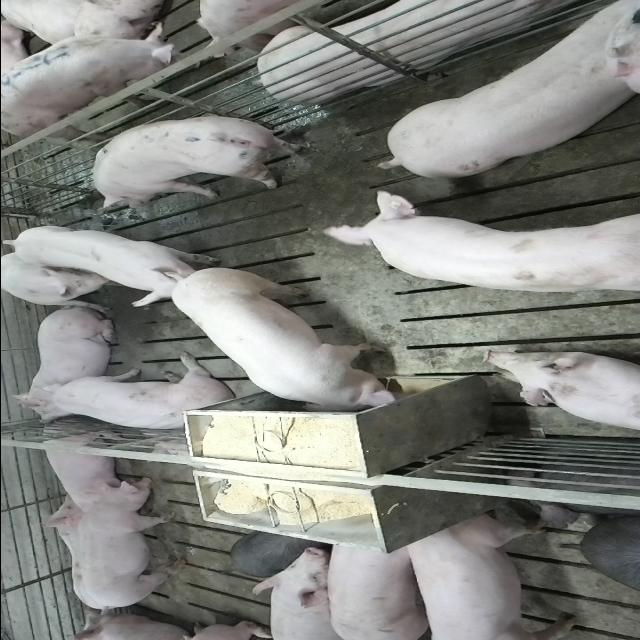Feeding: (138, 270, 402, 422)
Sitting: (11, 358, 234, 434), (2, 253, 124, 307)
Standing: (374, 6, 635, 182), (317, 195, 638, 299), (395, 512, 578, 638), (0, 21, 186, 137), (90, 116, 318, 207), (4, 226, 222, 312), (80, 478, 188, 612), (324, 538, 432, 638), (250, 547, 358, 640)
Sternal_lying: (242, 0, 585, 100), (483, 349, 640, 433), (16, 309, 124, 420), (35, 427, 133, 509)
